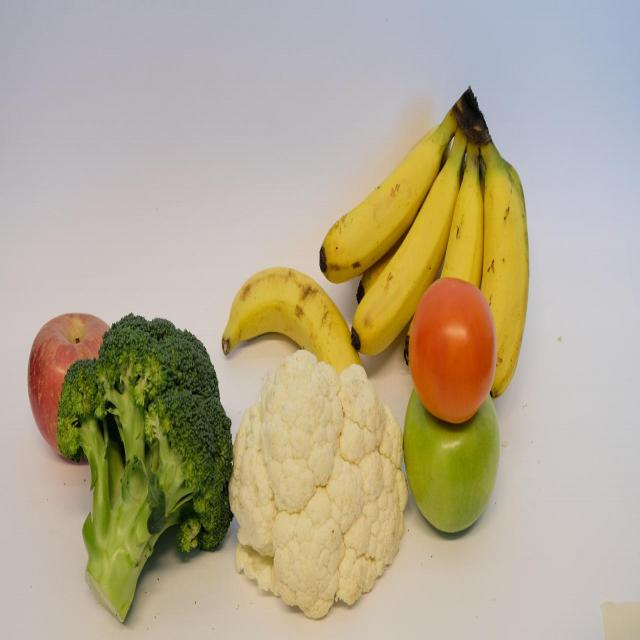apple: (403, 382, 502, 541), (32, 292, 115, 457)
banana: (222, 256, 366, 405), (317, 127, 453, 278), (352, 160, 458, 352), (485, 154, 530, 390), (448, 136, 486, 305)
broccoli: (68, 302, 230, 621)
cauliflower: (219, 328, 405, 620)
tomato: (416, 265, 494, 421)
